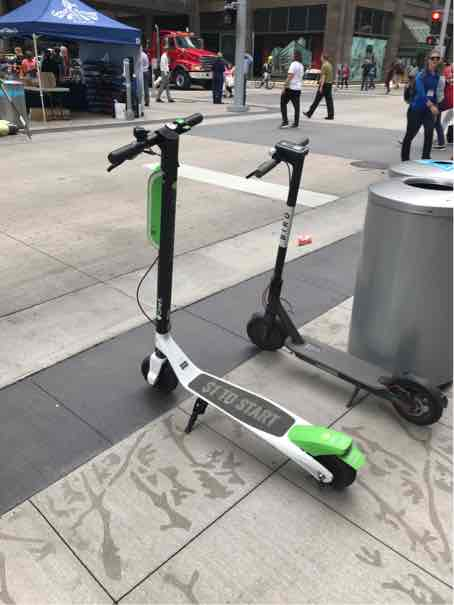scooter: (100, 105, 361, 495)
